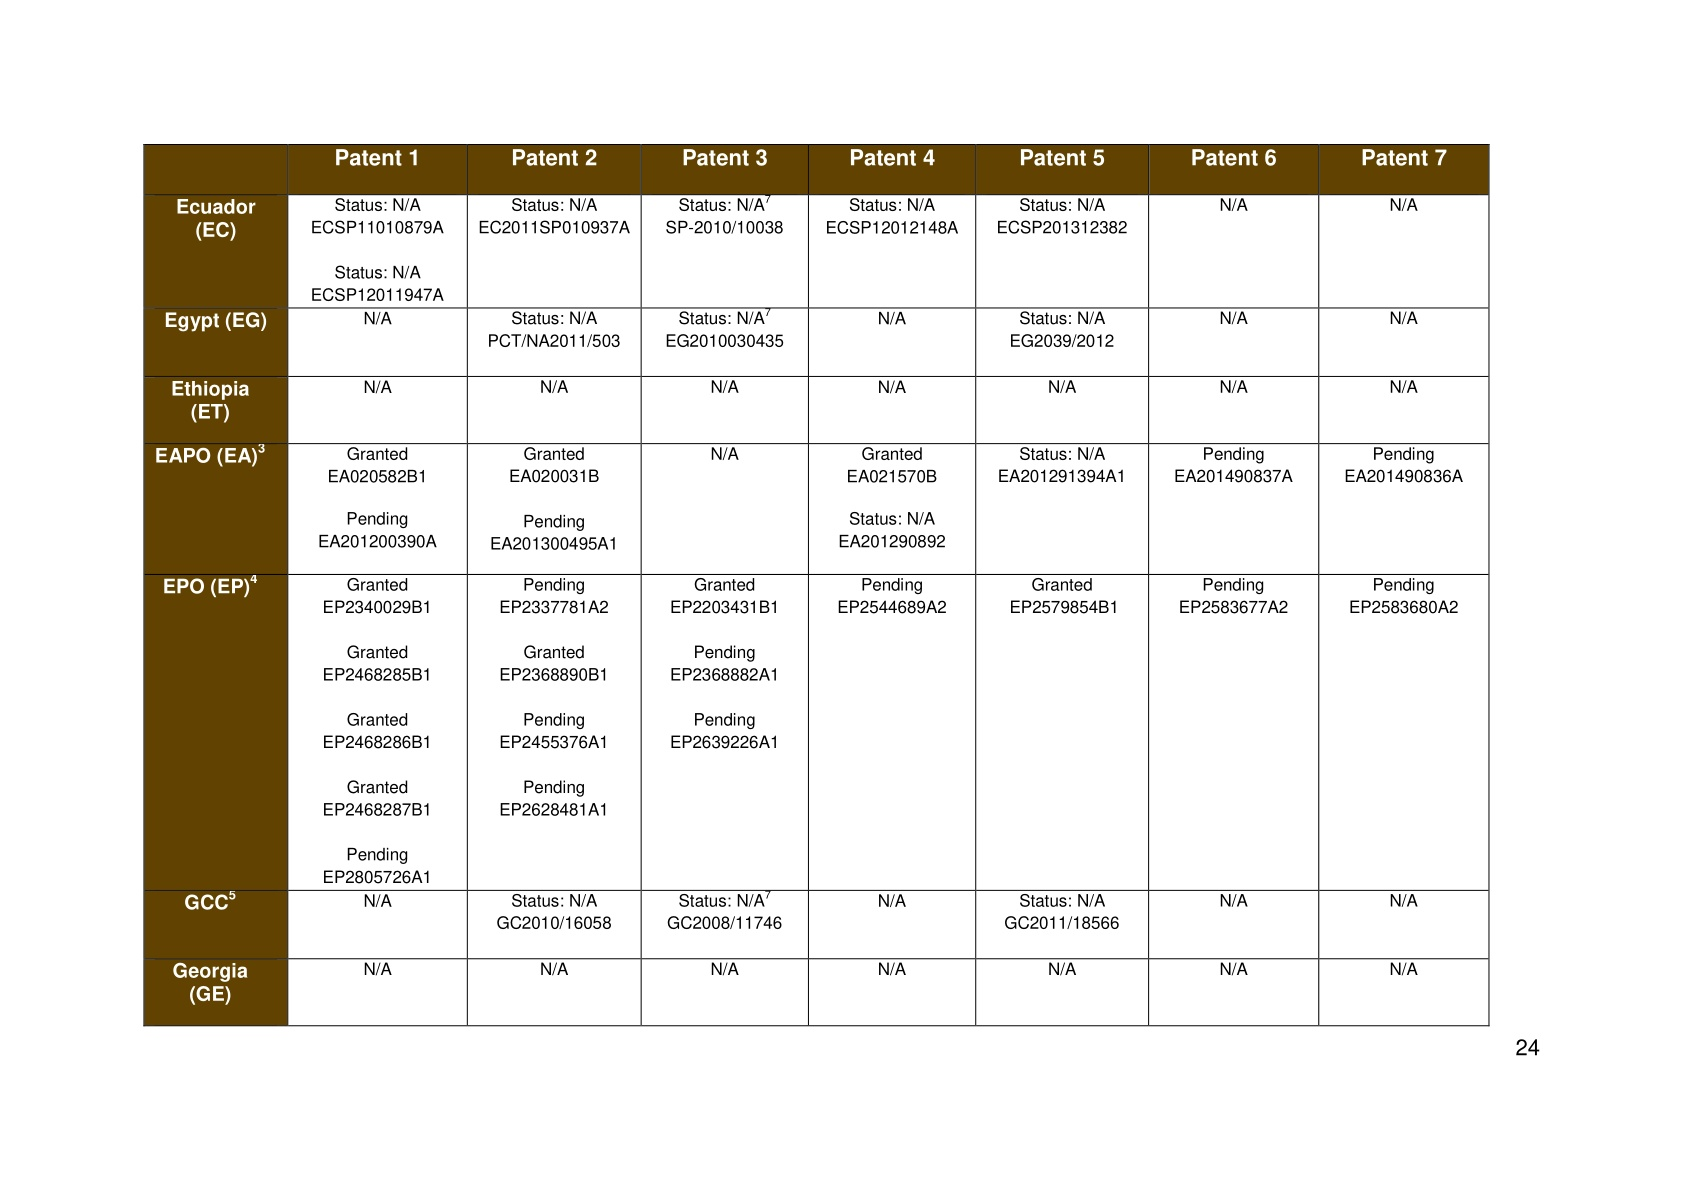full_lined: (142, 143, 1491, 1029)
